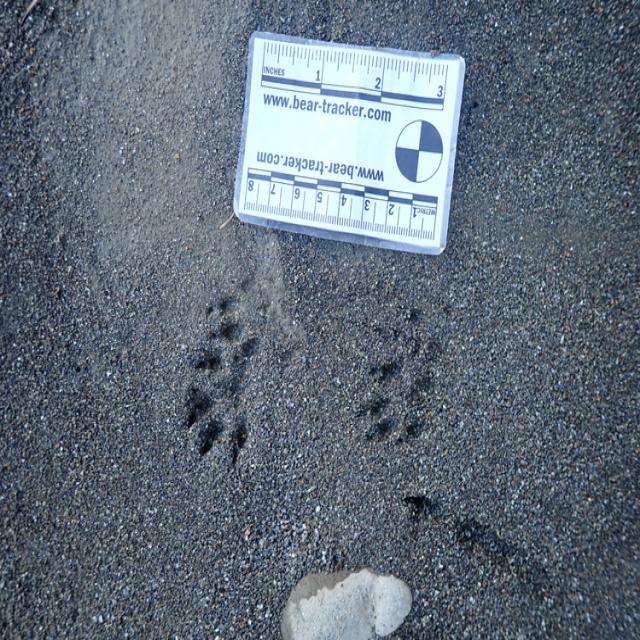mustelid: (186, 319, 270, 462), (364, 356, 434, 446)
